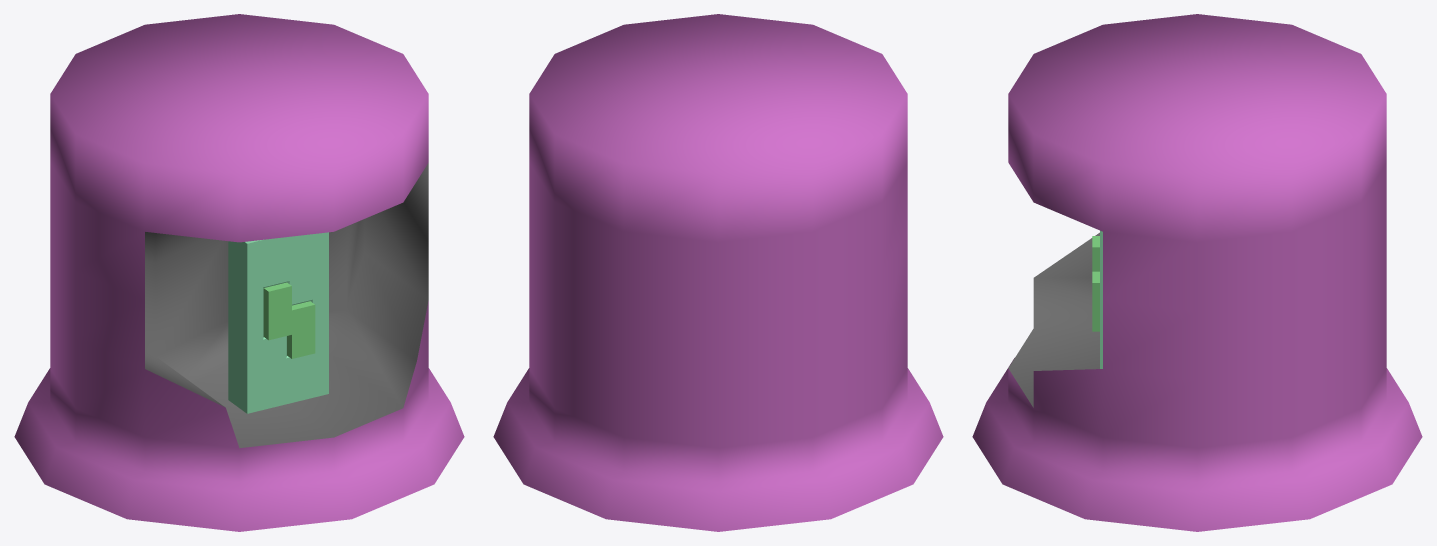
The model's file is Generator_Z.fbx.
3 views of the same model, side by side, from view 1: azimuth 30°, elevation 25°; view 2: azimuth 150°, elevation 25°; view 3: azimuth 270°, elevation 25° (orthographic).
Visible parts, largest first — view 1: Generator, Z_Holder, Generator_Z; view 2: Generator; view 3: Generator, Generator_Z.
Boxes of the visible parts, bbox=[...] form: Generator: bbox=[14, 14, 464, 531]; Z_Holder: bbox=[228, 232, 328, 413]; Generator_Z: bbox=[263, 282, 315, 358]; Generator: bbox=[493, 14, 943, 531]; Generator: bbox=[972, 14, 1422, 531]; Generator_Z: bbox=[1092, 236, 1099, 331].
Bounding box in the file's own units: 2.38 × 2 × 2.38.
